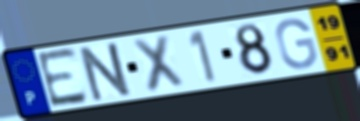1: (187, 28, 219, 85)
8: (233, 22, 276, 77)
E: (34, 45, 91, 111)
G: (273, 16, 319, 71)
N: (77, 39, 136, 104)
X: (130, 32, 188, 95)
